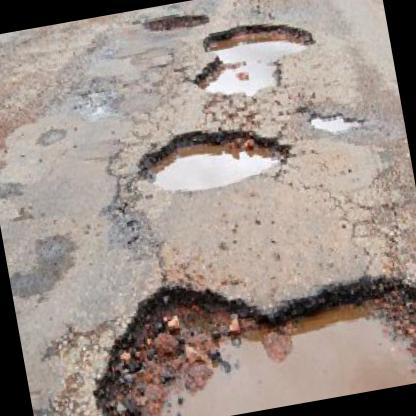pothole: (76, 236, 416, 416), (129, 109, 298, 199), (184, 10, 322, 103), (140, 6, 212, 36), (306, 103, 364, 136)
